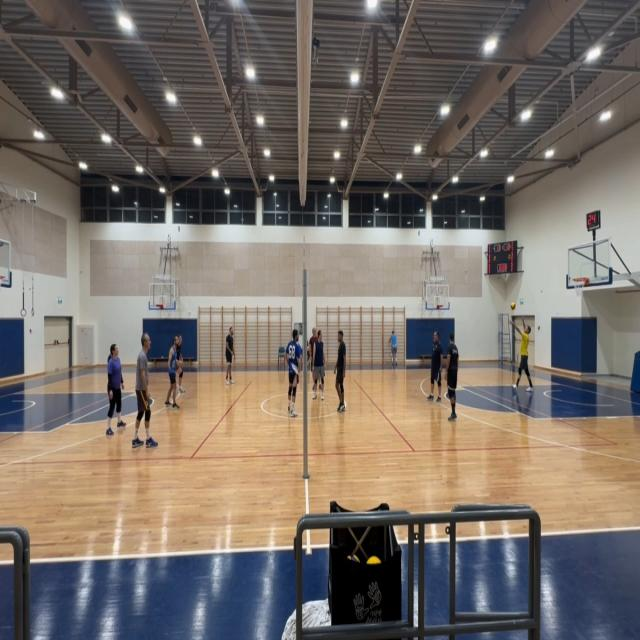volleyball: (510, 302, 516, 310)
